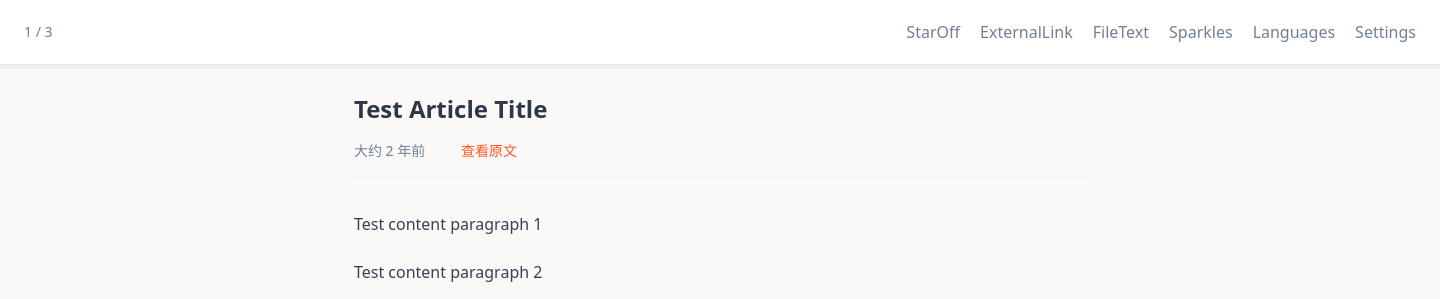
Test: ArticleViewer › AI translation › should translate article and show translation
What coordinates should you click on to do the following:
click the button titled "翻译文章"
I would click on:
 (1294, 32)
Its box is x1=1245 y1=12 x2=1343 y2=52.
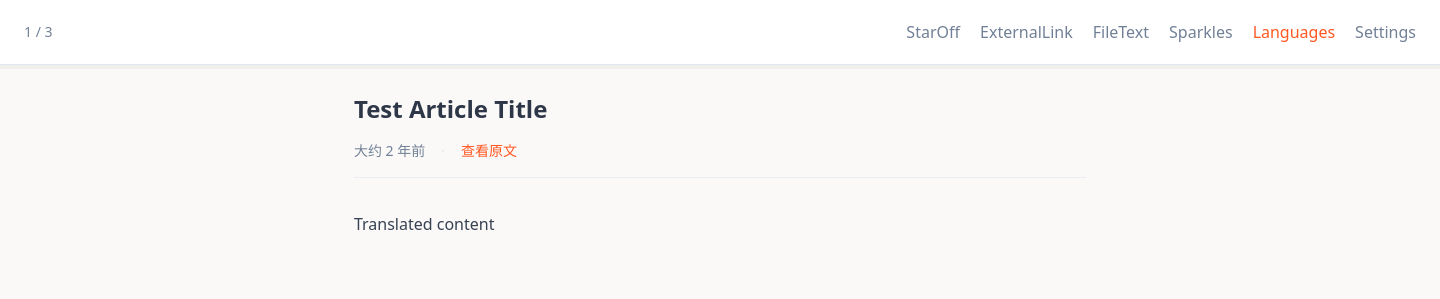
Check: the text "Translated content" is shown, box x1=354 y1=213 x2=494 y2=235
